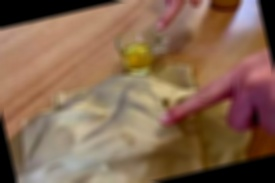oil: (110, 127, 144, 155)
